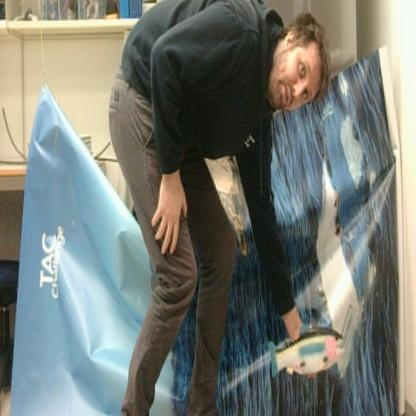rubberfish: (266, 326, 344, 378)
